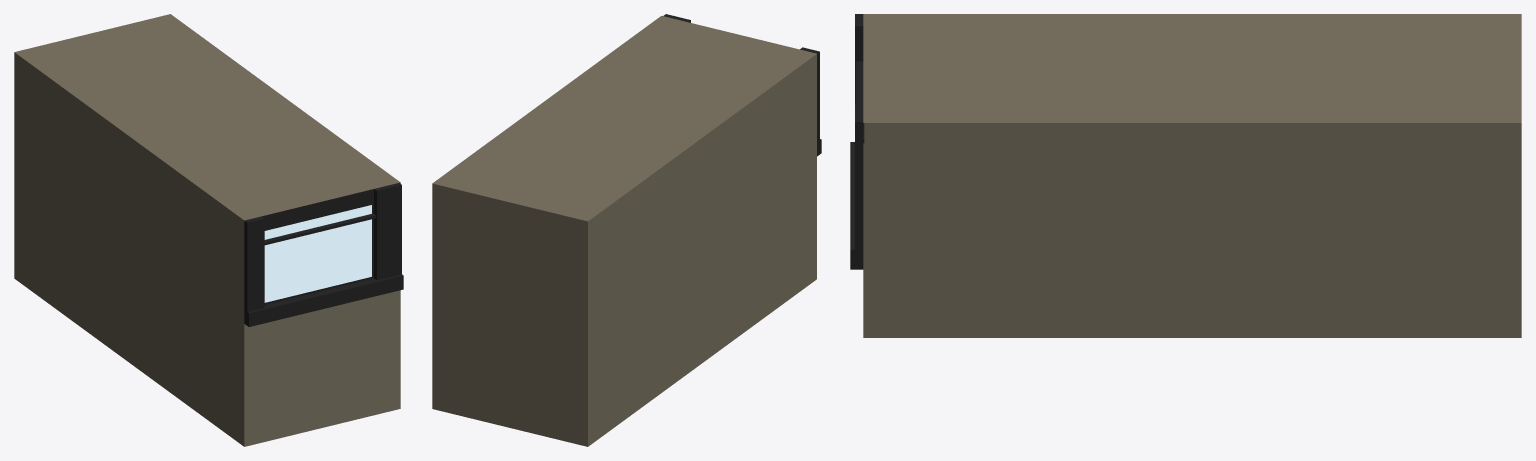
The model's file is SM_wall_ext_combo_02.fbx.
3 views of the same model, side by side, from view 1: azimuth 30°, elevation 25°; view 2: azimuth 150°, elevation 25°; view 3: azimuth 270°, elevation 25° (orthographic). The views are drawn at different scales.
Visible parts, largest first — view 1: wall_ext_combo_02; view 2: wall_ext_combo_02; view 3: wall_ext_combo_02.
Part boxes in pixels (x1,y1,x2,y2): wall_ext_combo_02: [14, 14, 403, 446]; wall_ext_combo_02: [432, 14, 821, 446]; wall_ext_combo_02: [850, 14, 1521, 337].
Size of the model in its own units: 143 by 198 by 373.
